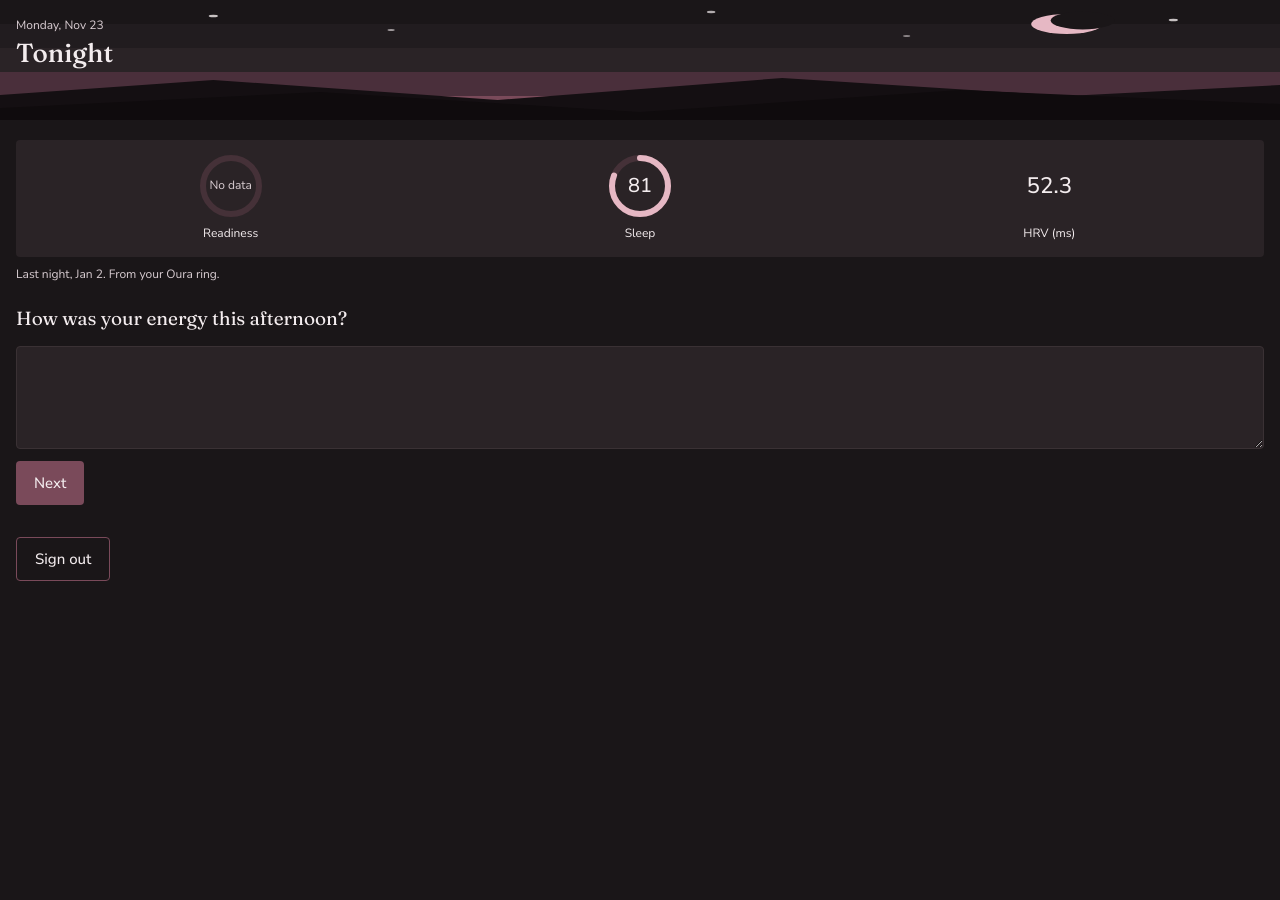
Test: Tonight › questions › Back returns to the previous question with its answer kept
Type "Flat until a 3pm espresso" into the text box labelled "How was your energy this afternoon?" at (640, 397), box [16,346,1264,449]
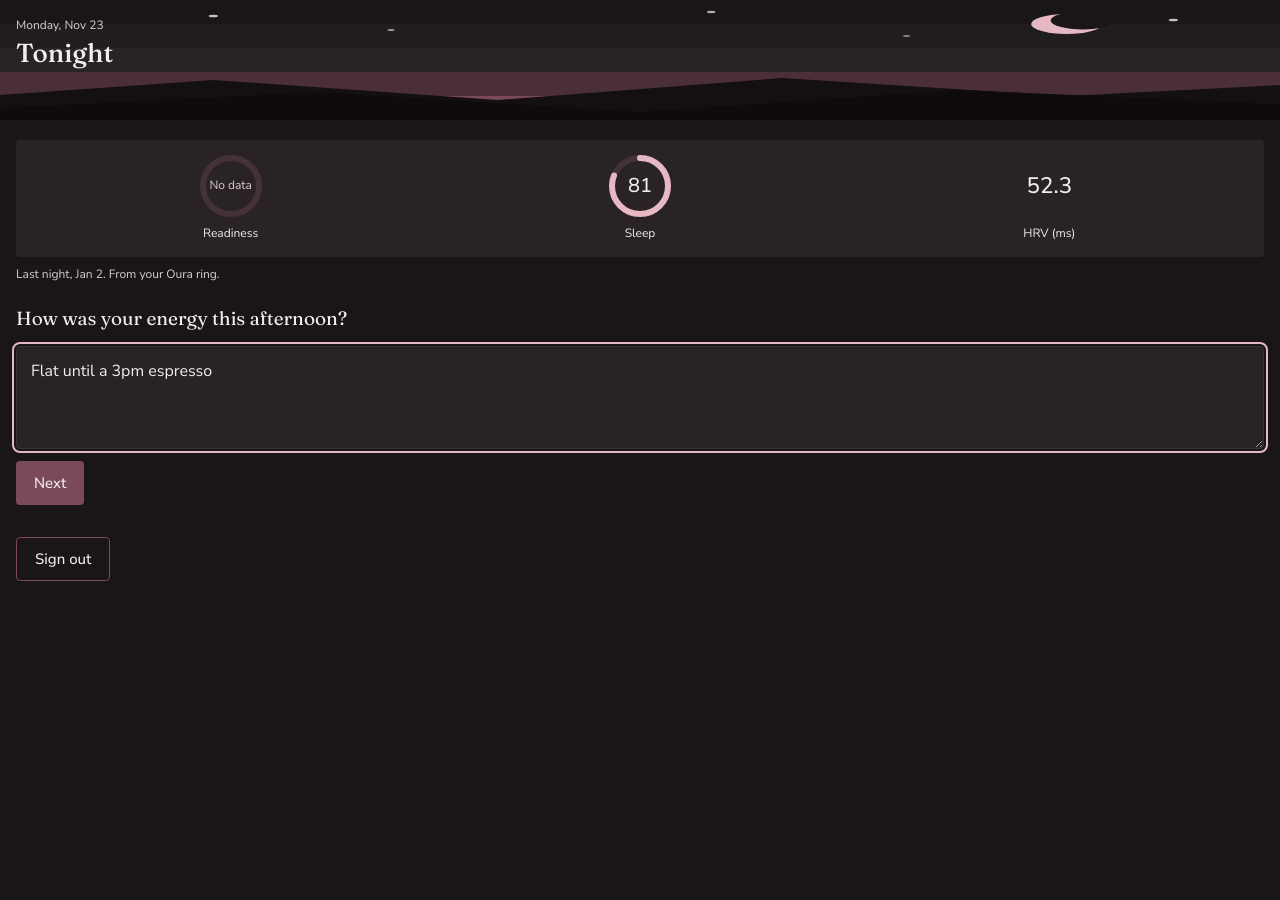
Click the button "Next" at (50, 483), box [16,461,84,505]
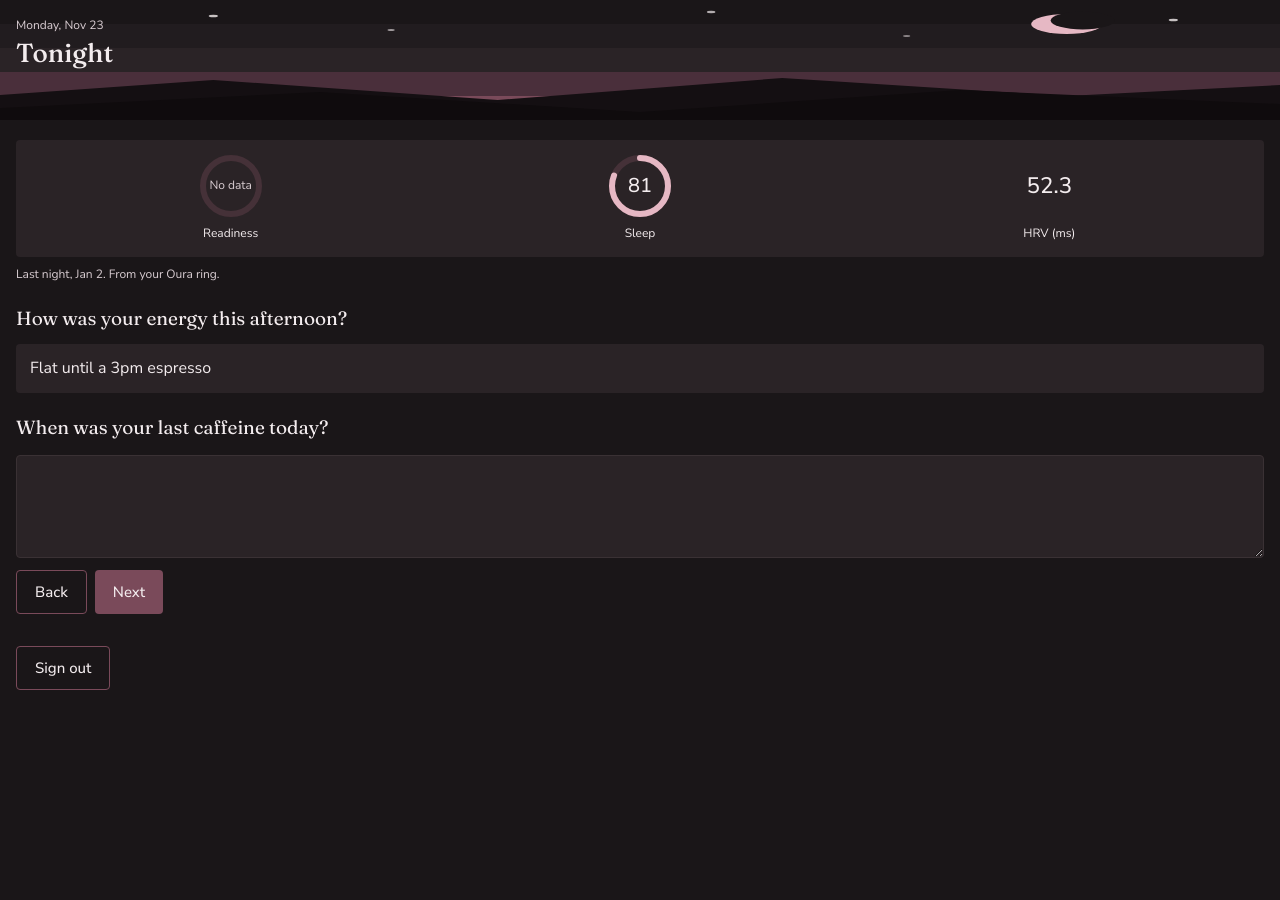
Click the button "Back" at (51, 592), box [16,570,87,614]
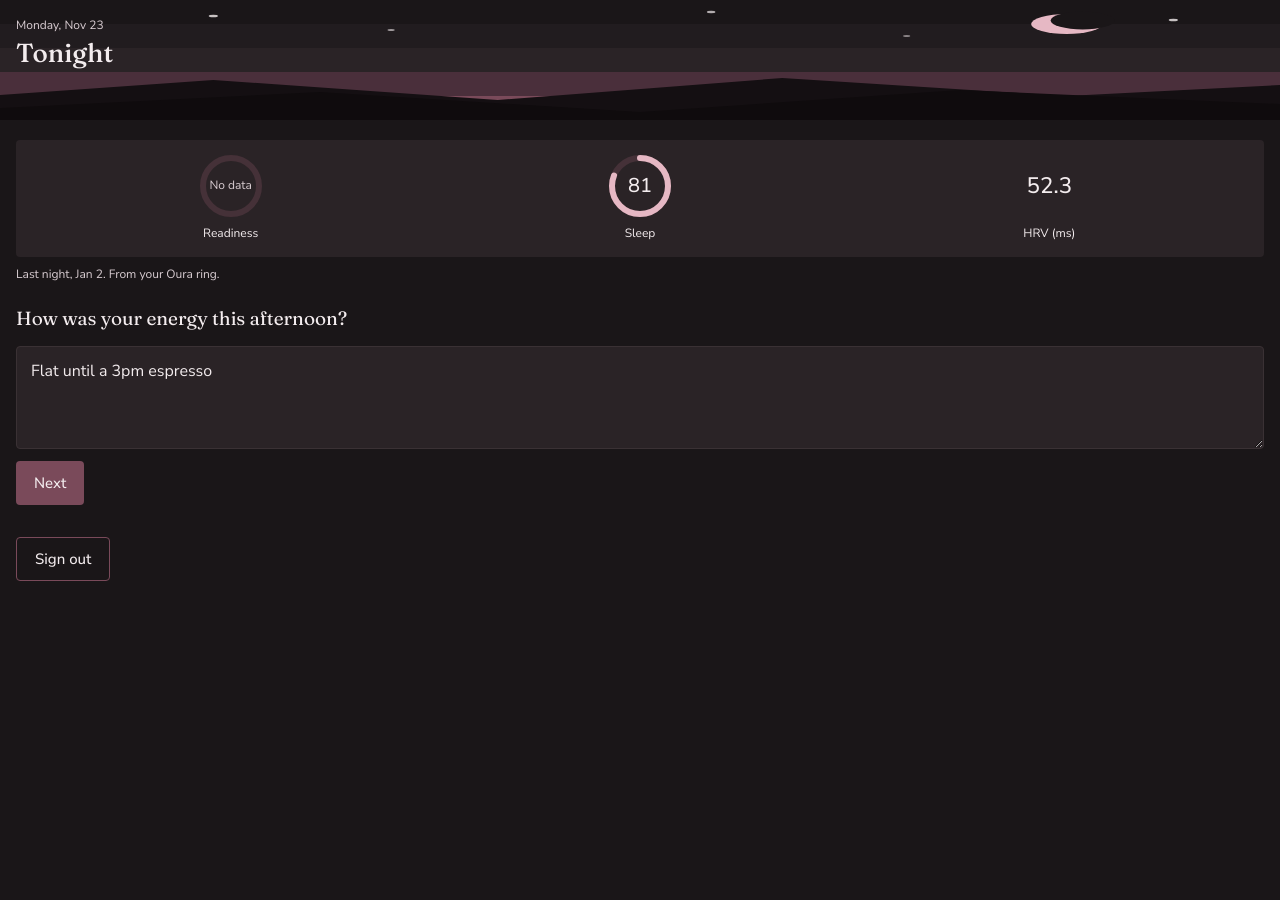
Check: the text box labelled "How was your energy this afternoon?" holds "Flat until a 3pm espresso", box [16,346,1264,449]
Check: the button "Back" is gone
